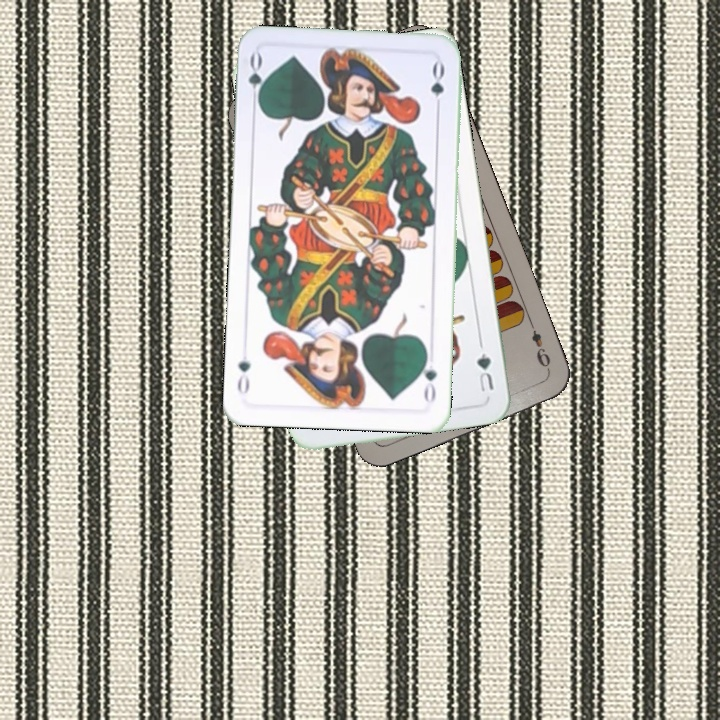E9: (525, 317, 553, 375)
GO: (244, 50, 269, 109), (417, 347, 440, 406)
GU: (472, 349, 497, 395)
